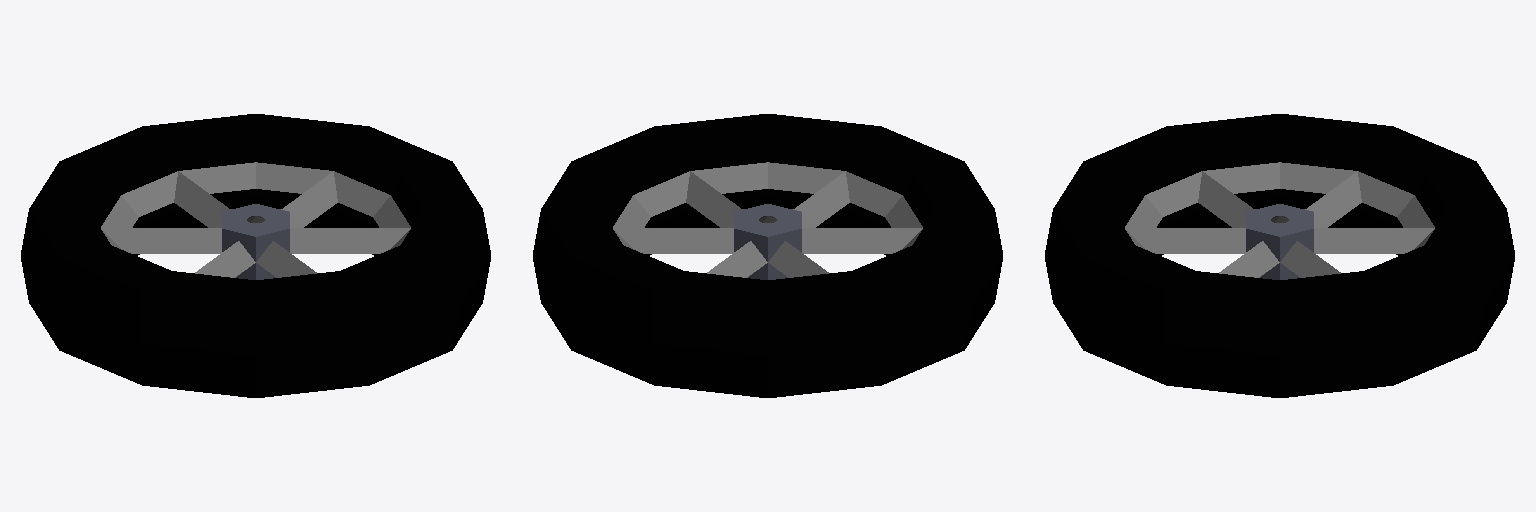
File: tire.obj
The picture shows the model from 3 angles: view 1: azimuth 30°, elevation 25°; view 2: azimuth 150°, elevation 25°; view 3: azimuth 270°, elevation 25°; orthographic projection.
Visible parts, largest first — view 1: pTorus1, pDisc1, pCylinder1; view 2: pTorus1, pDisc1, pCylinder1; view 3: pTorus1, pDisc1, pCylinder1.
Boxes of the visible parts, <box> form: pTorus1: <box>21,114,490,397</box>; pDisc1: <box>101,162,410,277</box>; pCylinder1: <box>222,204,289,279</box>; pTorus1: <box>533,114,1002,397</box>; pDisc1: <box>613,162,922,277</box>; pCylinder1: <box>734,204,801,279</box>; pTorus1: <box>1045,114,1514,397</box>; pDisc1: <box>1125,162,1434,277</box>; pCylinder1: <box>1246,204,1313,279</box>.
Size of the model in its own units: 2.38 by 0.5196 by 2.38.